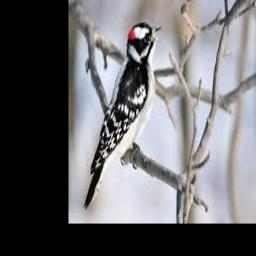Woodpecker: (83, 23, 164, 211)
